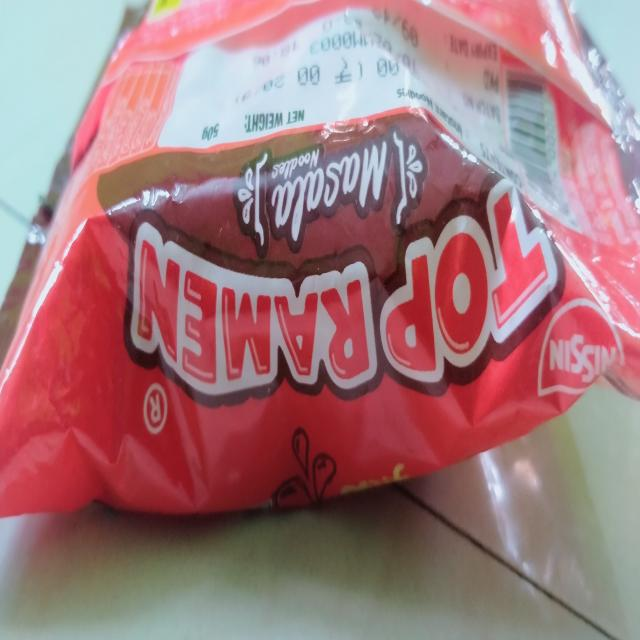maggi: (0, 4, 640, 531)
